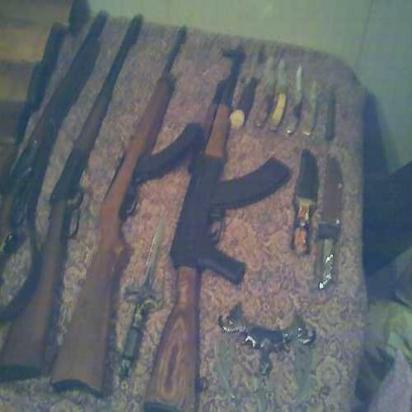Gun: (167, 60, 271, 316)
